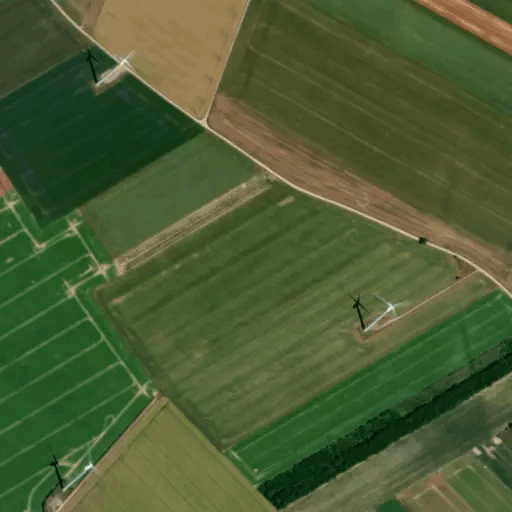wt: (72, 40, 147, 116), (337, 283, 417, 351), (40, 436, 117, 499)
